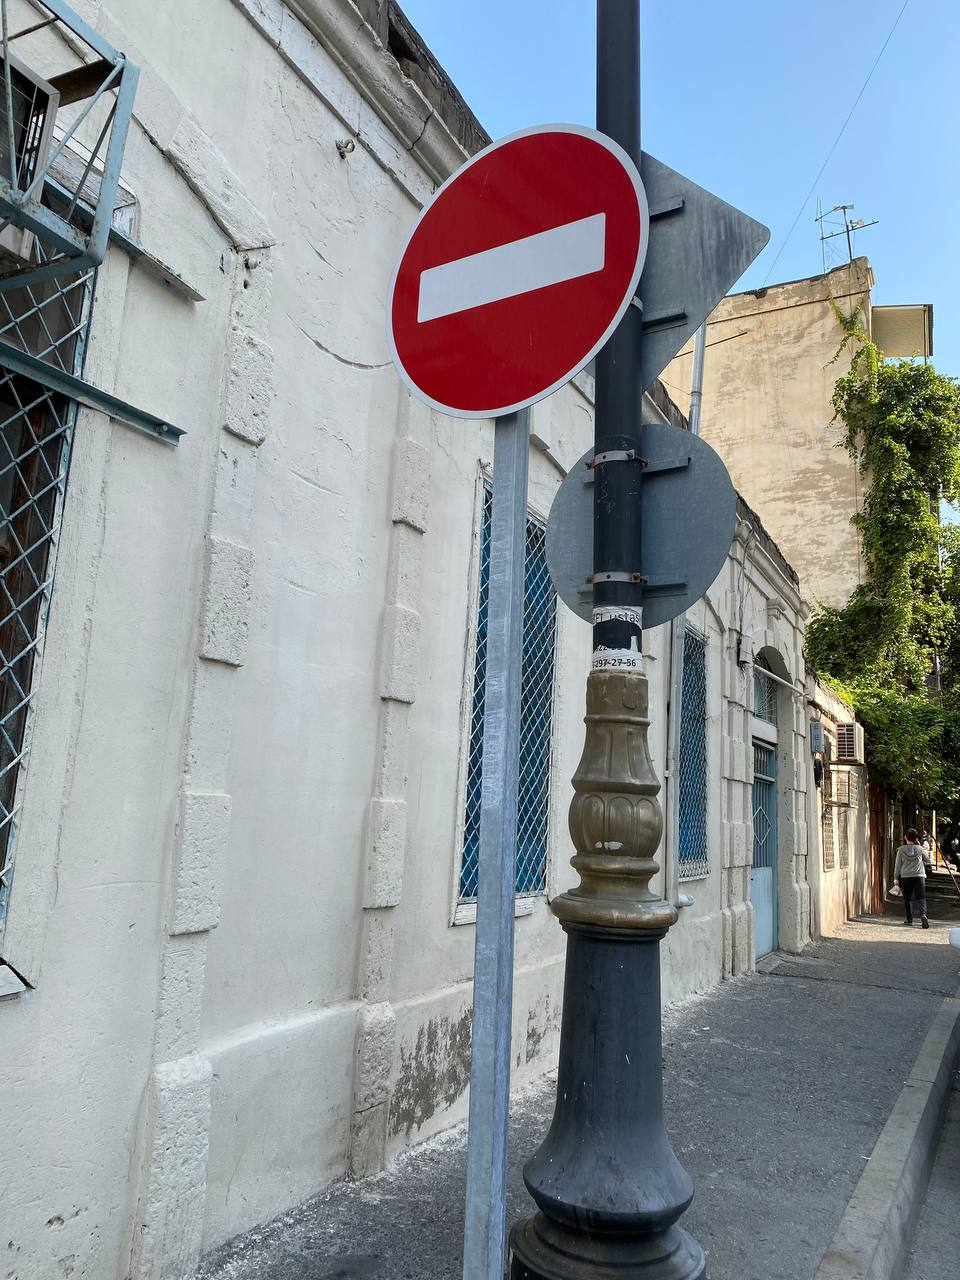No Entry: (385, 123, 649, 420)
